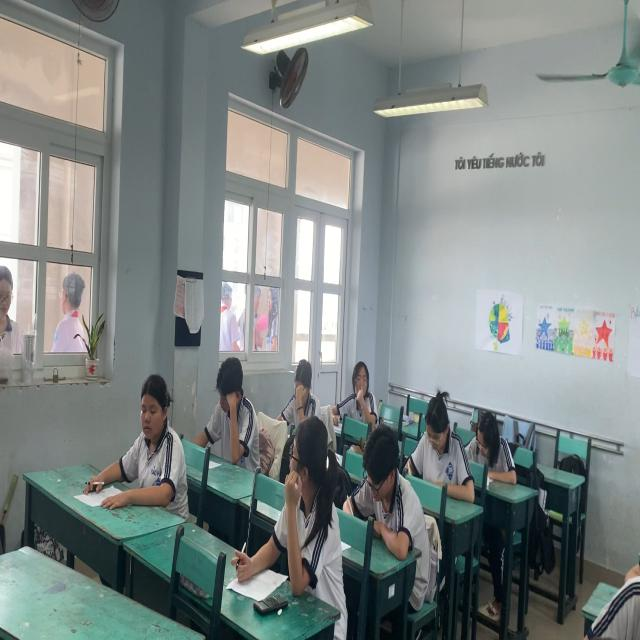cheating: (270, 412, 340, 588)
not_cheating: (116, 372, 185, 524), (408, 395, 474, 492), (359, 430, 404, 551), (202, 358, 252, 464), (468, 406, 518, 489), (334, 354, 377, 426), (281, 350, 316, 422)
